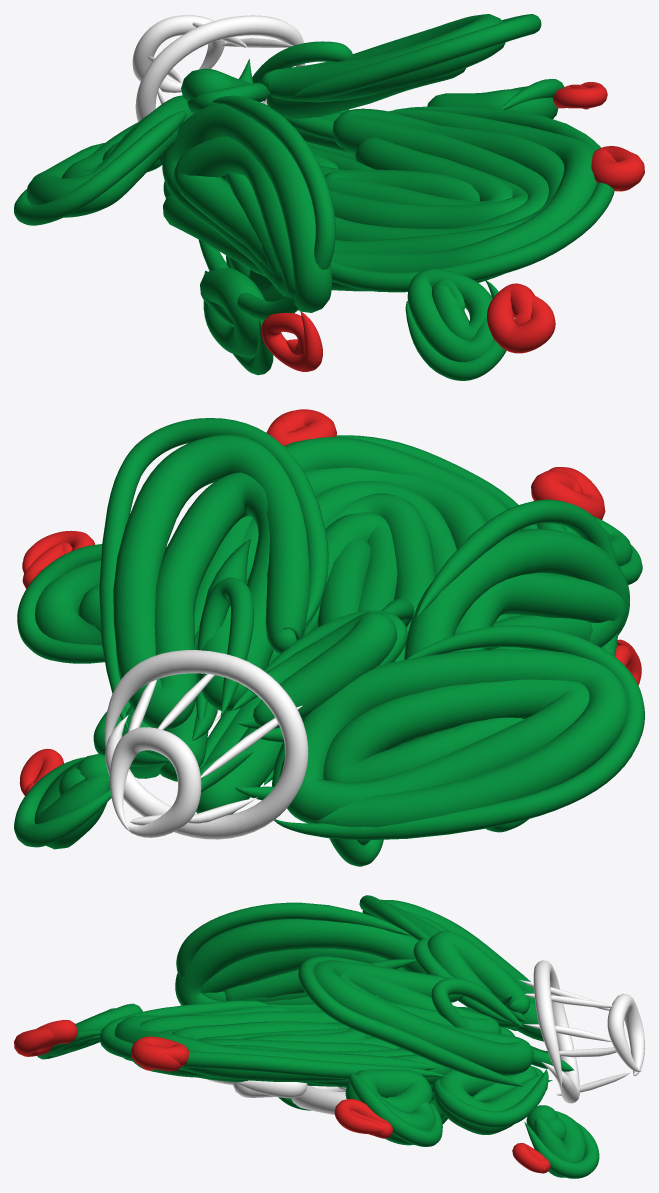
File: nopal001.glb
3 renders of one model, top to bottom at view 1: azimuth 30°, elevation 25°; view 2: azimuth 150°, elevation 25°; view 3: azimuth 270°, elevation 25°, orthographic. The views are drawn at different scales.
Parts seen in each view (by area): view 1: nopal.001; view 2: nopal.001; view 3: nopal.001.
Boxes of the visible parts, bbox=[...] form: nopal.001: bbox=[14, 14, 644, 380]; nopal.001: bbox=[14, 409, 644, 866]; nopal.001: bbox=[14, 895, 644, 1178].
Bounding box in the file's own units: 35.21 × 17.77 × 42.21.
Materials: 1 (1 with a texture image).
